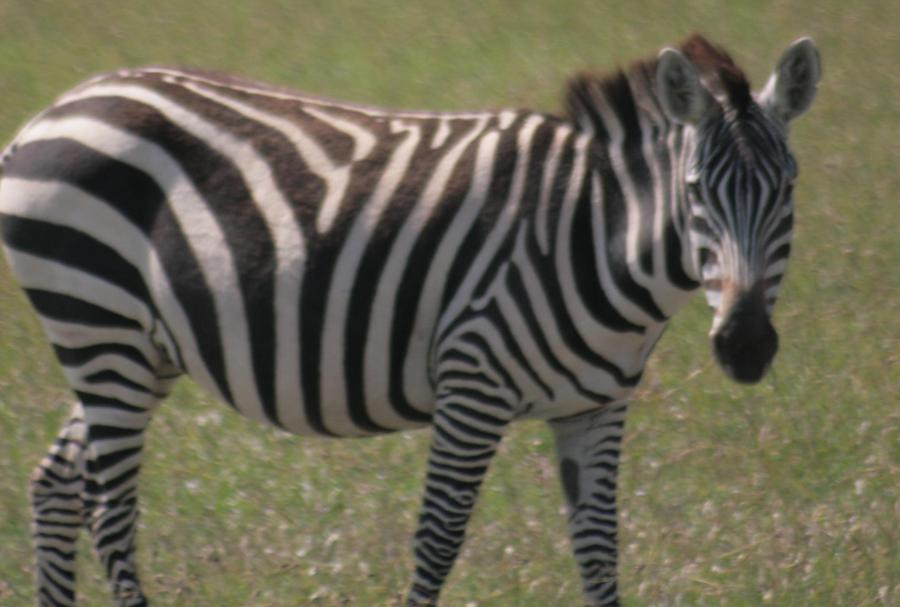zebra_plains: (11, 83, 578, 415)
